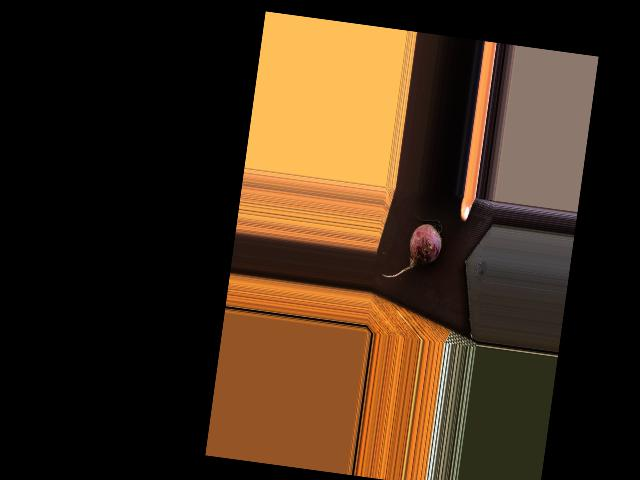beet: (382, 208, 445, 284)
